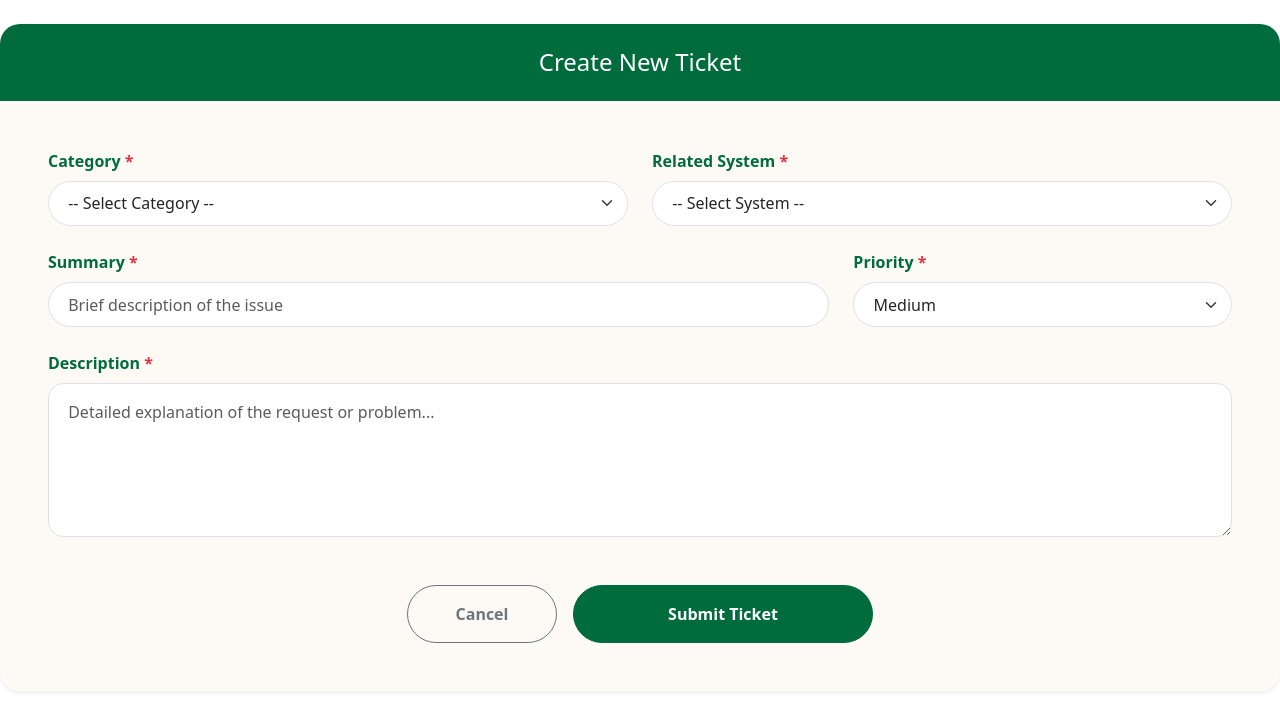
Test: CreateTicket Form › shows validation errors when submitting empty form
The width and height of the screenshot is (1280, 720).
Check: the heading "Create New Ticket" is shown, box [539, 45, 741, 78]
Click the button "Submit Ticket". click: (723, 614)
box: [573, 585, 873, 643]
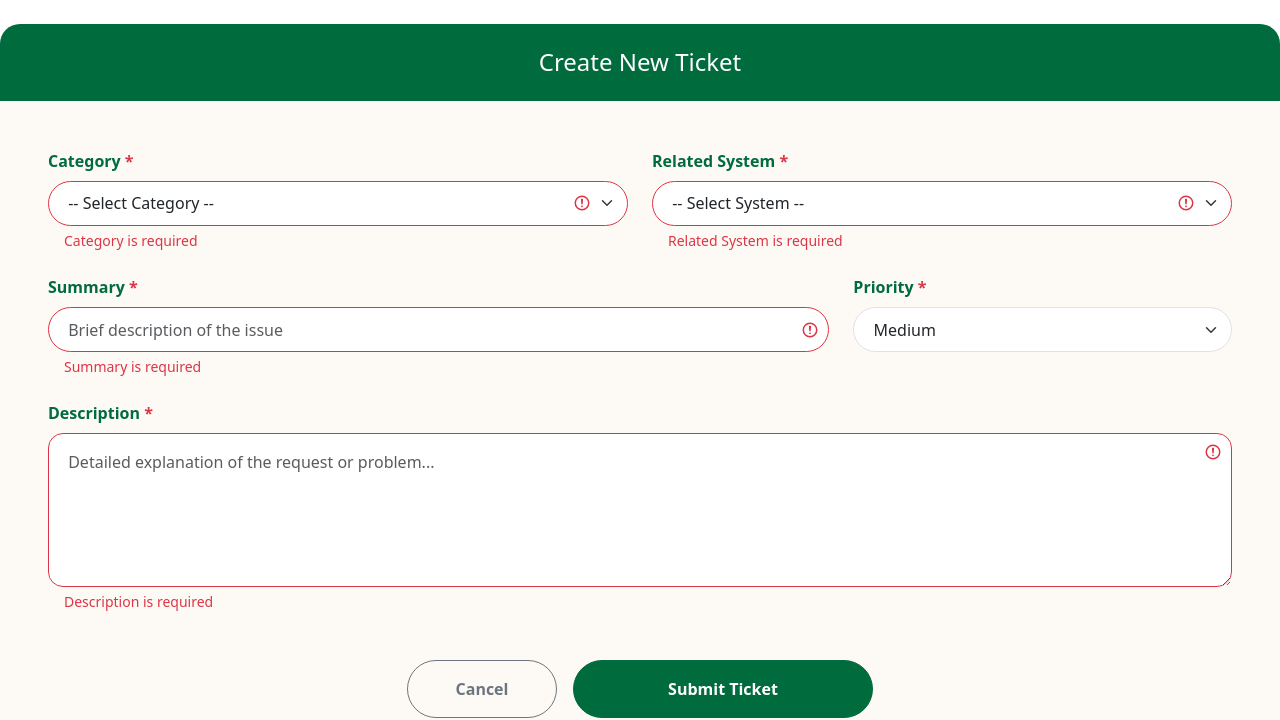
Check: the text "Category is required" is shown, box [64, 231, 198, 250]
Check: the text "Related System is required" is shown, box [668, 231, 843, 250]
Check: the text "Summary is required" is shown, box [64, 357, 201, 376]
